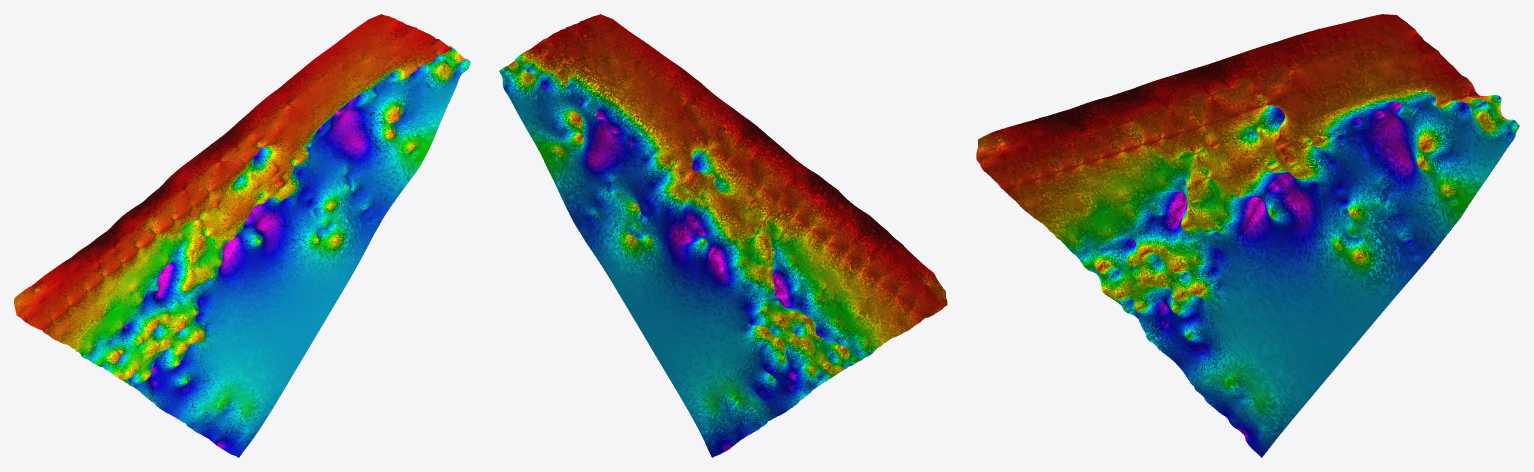
The model's file is Topo_Santoniano.glb.
The picture shows the model from 3 angles, left to right: view 1: azimuth 30°, elevation 25°; view 2: azimuth 150°, elevation 25°; view 3: azimuth 330°, elevation 25°; orthographic projection. The views are drawn at different scales.
Visible parts, largest first — view 1: Surface; view 2: Surface; view 3: Surface.
Part boxes in pixels (box(x1,y1,x2,y2)): Surface: box(14, 14, 470, 457); Surface: box(499, 14, 947, 457); Surface: box(976, 14, 1519, 457).
Bounding box in the file's own units: 371001 × 324250 × 34535.
Materials: 1 (1 with a texture image).
